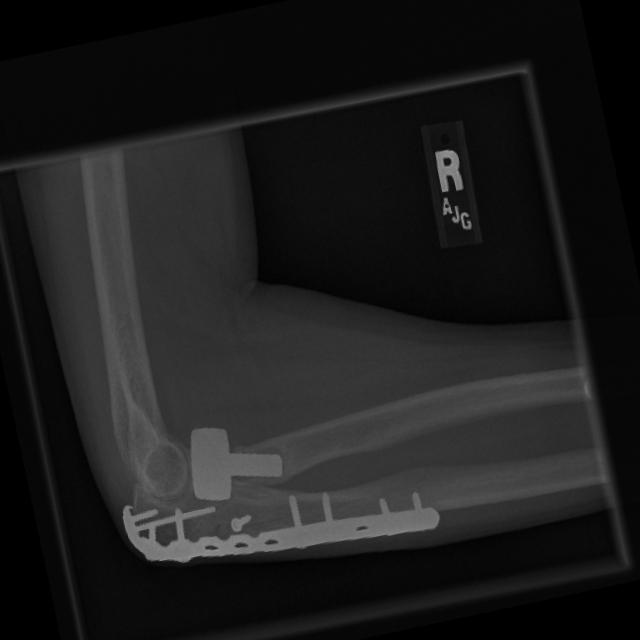elbow positive: (212, 424, 283, 497), (186, 511, 244, 551)
